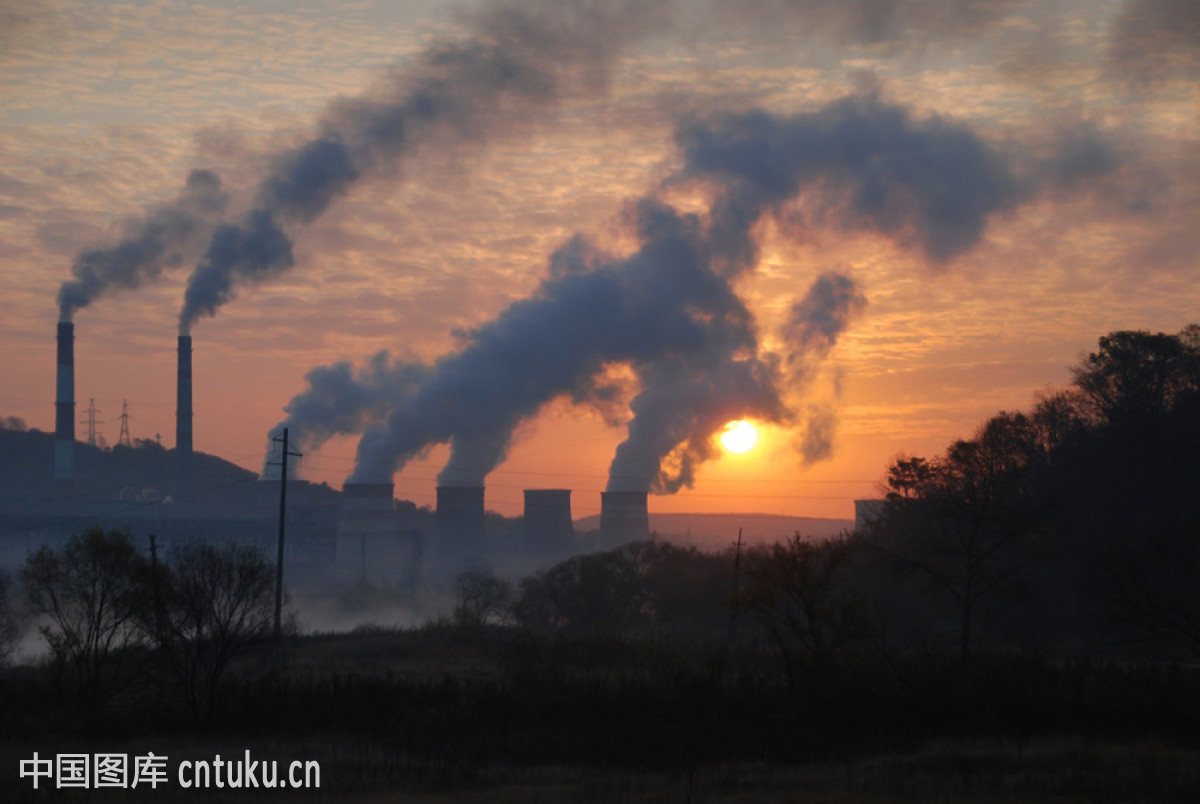dust: (173, 114, 314, 368), (590, 315, 760, 520), (429, 295, 563, 508), (42, 163, 169, 351), (340, 353, 458, 501), (258, 349, 358, 461)
